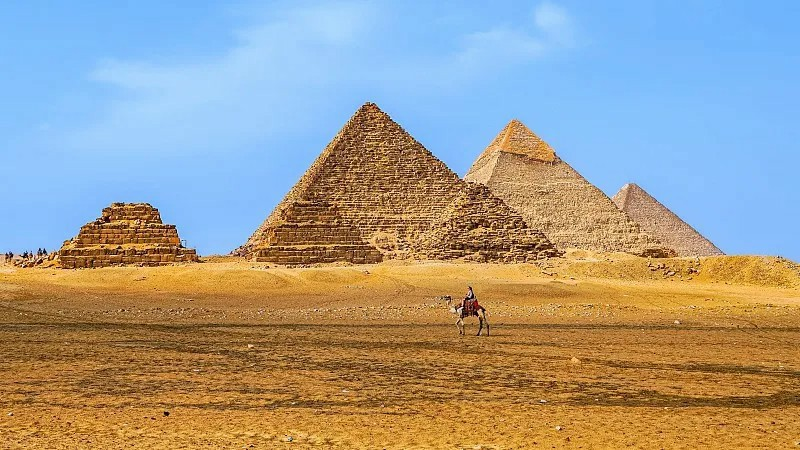Pyramid: (239, 100, 466, 258), (462, 118, 677, 258), (418, 183, 563, 257), (244, 192, 384, 261), (59, 201, 200, 264), (611, 182, 725, 256)
